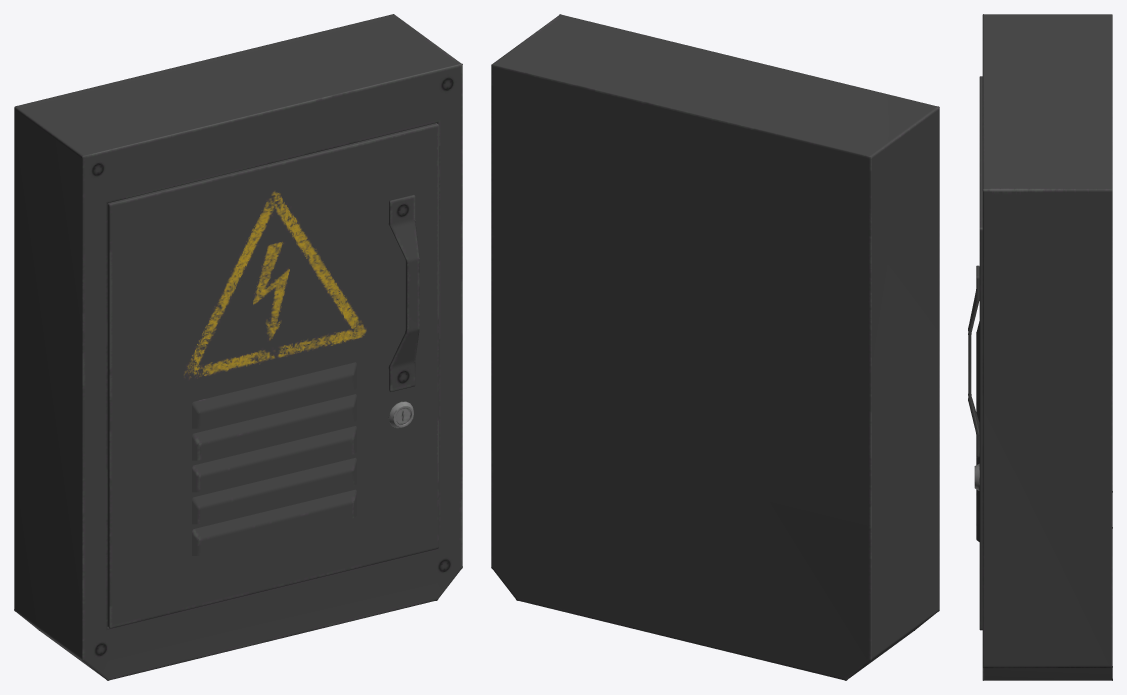
The model's file is SCPSLPowerBox (1).fbx.
3 renders of one model, left to right at view 1: azimuth 30°, elevation 25°; view 2: azimuth 150°, elevation 25°; view 3: azimuth 270°, elevation 25°, orthographic. The views are drawn at different scales.
Visible parts, largest first — view 1: SCPSLPowerBox (1); view 2: SCPSLPowerBox (1); view 3: SCPSLPowerBox (1).
Boxes of the visible parts, x1=… form: SCPSLPowerBox (1): x1=14, y1=14, x2=462, y2=680; SCPSLPowerBox (1): x1=491, y1=14, x2=939, y2=680; SCPSLPowerBox (1): x1=968, y1=14, x2=1112, y2=680.
Size of the model in its own units: 0.5703 by 0.7601 by 0.1984.
Materials: 1 (1 with a texture image).
